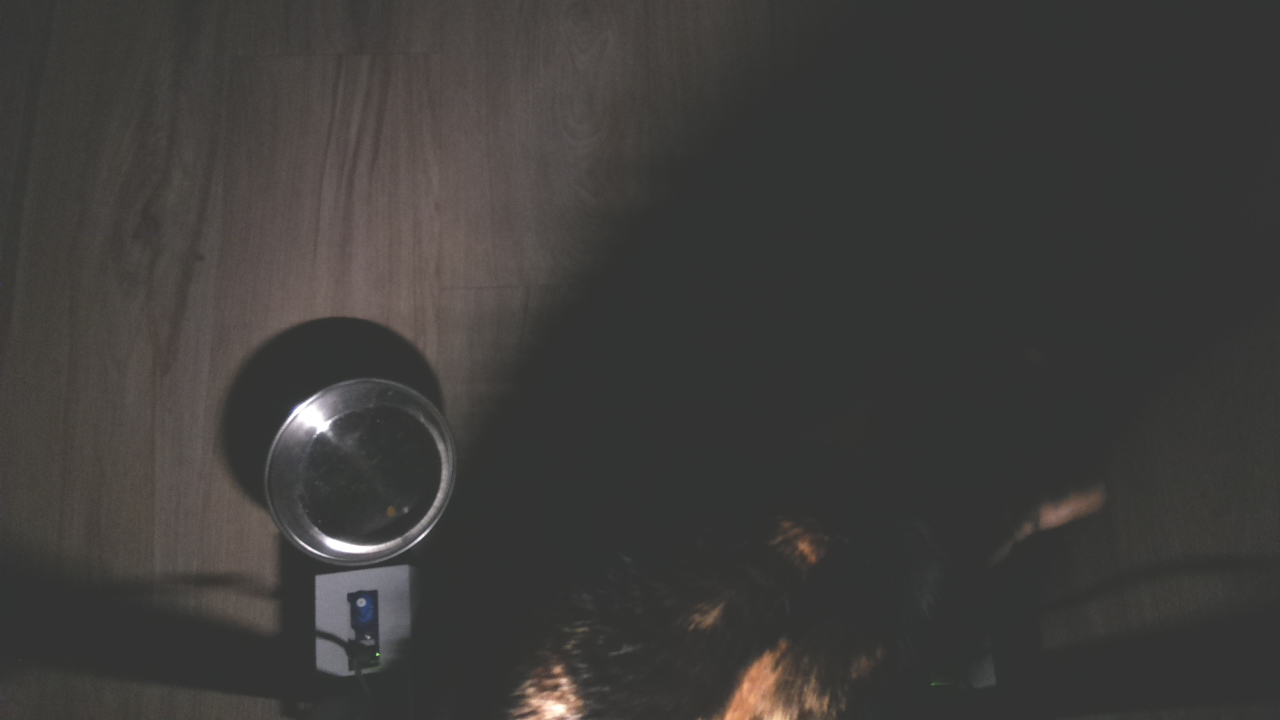open_bowl: (256, 373, 458, 573)
